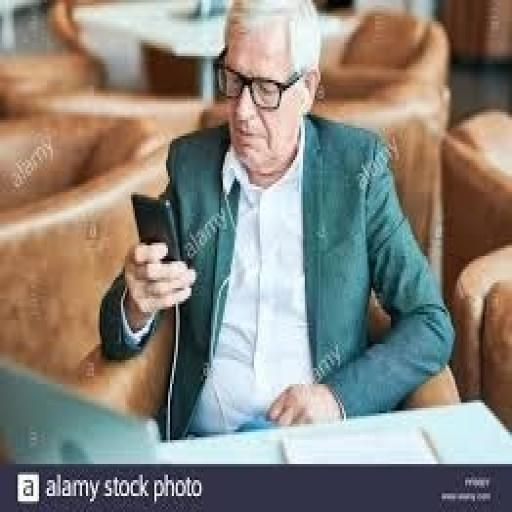texting: (94, 0, 461, 440)
